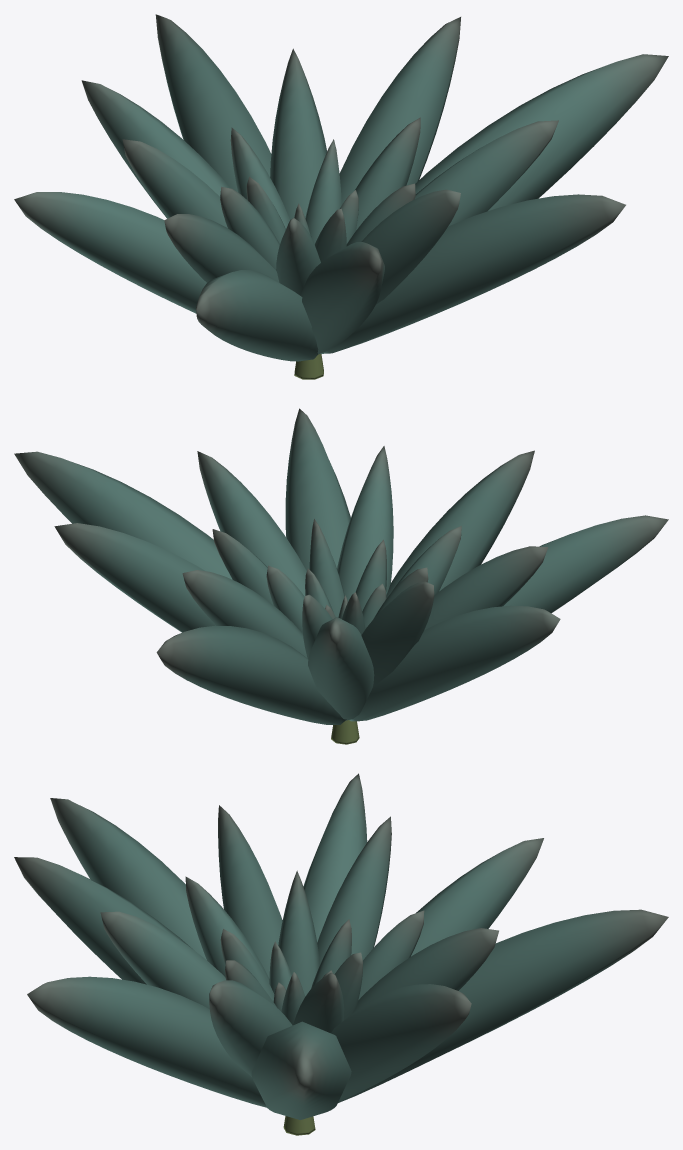
File: succulentb.glb
3 renders of one model, top to bottom at view 1: azimuth 30°, elevation 25°; view 2: azimuth 150°, elevation 25°; view 3: azimuth 270°, elevation 25°, orthographic. The views are drawn at different scales.
Parts seen in each view (by area): view 1: SucculentLeaves, SucculentStems; view 2: SucculentLeaves, SucculentStems; view 3: SucculentLeaves.
Part boxes in pixels (bbox=[...]): SucculentLeaves: bbox=[14, 14, 668, 361]; SucculentStems: bbox=[294, 354, 323, 379]; SucculentLeaves: bbox=[14, 408, 668, 724]; SucculentStems: bbox=[331, 720, 359, 744]; SucculentLeaves: bbox=[14, 773, 668, 1119].
Size of the model in its own units: 1.14 by 0.4193 by 1.01.
